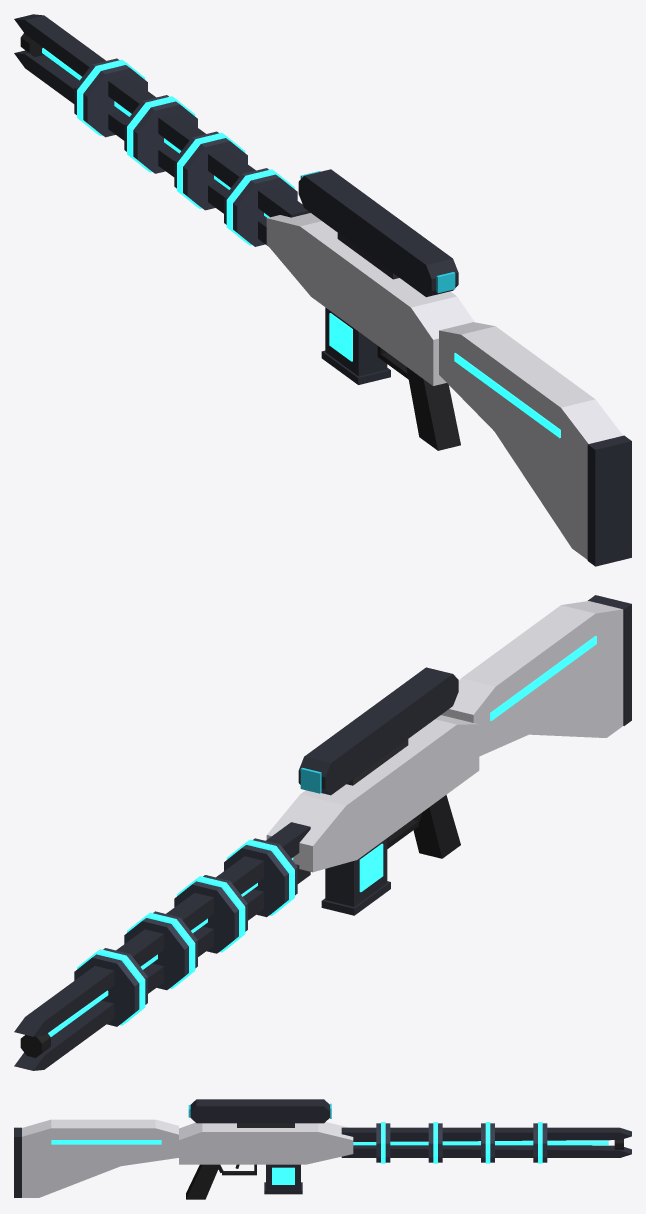
The model's file is Pulse.glb.
3 views of the same model, one above another, from view 1: azimuth 30°, elevation 25°; view 2: azimuth 150°, elevation 25°; view 3: azimuth 270°, elevation 25° (orthographic). The views are drawn at different scales.
Parts seen in each view (by area): view 1: Stock, Body, Barrel, Handguard, Scope, Pad, Accent, Grip, Magazine; view 2: Stock, Body, Barrel, Handguard, Scope, Accent, Magazine, Grip, Pad; view 3: Stock, Body, Barrel, Scope, Accent, Handguard, Grip, Magazine, Pad, Mount, Trigger.
Boxes of the visible parts, x1=… form: Stock: x1=439, y1=322, x2=622, y2=559; Body: x1=266, y1=213, x2=474, y2=385; Barrel: x1=14, y1=14, x2=310, y2=246; Handguard: x1=74, y1=58, x2=297, y2=246; Scope: x1=298, y1=169, x2=458, y2=297; Pad: x1=587, y1=435, x2=631, y2=566; Accent: x1=42, y1=48, x2=560, y2=438; Grip: x1=406, y1=367, x2=460, y2=450; Magazine: x1=321, y1=307, x2=390, y2=384; Stock: x1=441, y1=601, x2=623, y2=756; Body: x1=266, y1=715, x2=479, y2=872; Barrel: x1=14, y1=822, x2=310, y2=1070; Handguard: x1=74, y1=838, x2=297, y2=1026; Scope: x1=298, y1=667, x2=458, y2=795; Accent: x1=48, y1=635, x2=596, y2=1036; Magazine: x1=321, y1=838, x2=390, y2=915; Grip: x1=413, y1=795, x2=460, y2=858; Pad: x1=588, y1=595, x2=631, y2=725; Stock: x1=22, y1=1119, x2=178, y2=1197; Body: x1=179, y1=1122, x2=353, y2=1164; Barrel: x1=341, y1=1127, x2=631, y2=1157; Scope: x1=190, y1=1099, x2=329, y2=1123; Accent: x1=51, y1=1122, x2=608, y2=1184; Handguard: x1=376, y1=1123, x2=547, y2=1162; Grip: x1=186, y1=1164, x2=219, y2=1199; Magazine: x1=264, y1=1164, x2=302, y2=1194; Pad: x1=14, y1=1127, x2=21, y2=1197; Mount: x1=237, y1=1123, x2=294, y2=1127; Trigger: x1=218, y1=1164, x2=256, y2=1175.
Size of the model in its own units: 0.3326 by 0.89 by 5.32.
